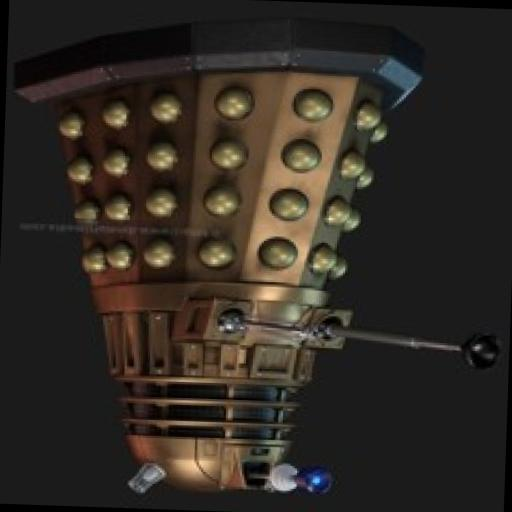dalek: (0, 6, 512, 509)
